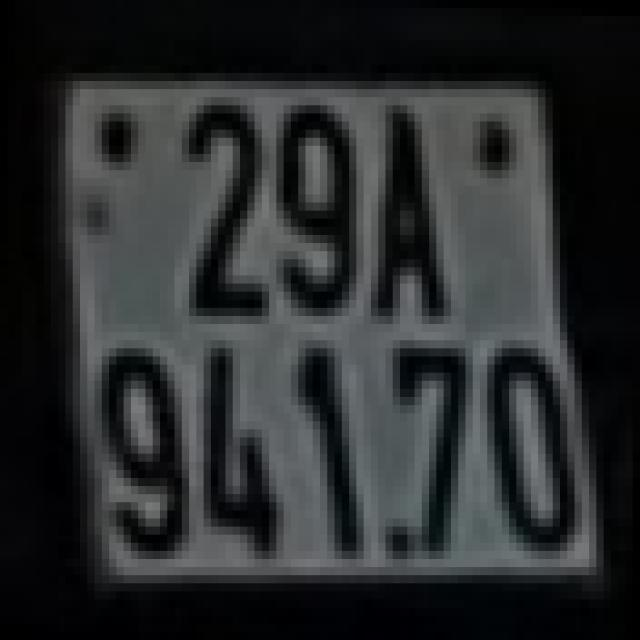0: (487, 340, 575, 551)
1: (298, 348, 364, 559)
2: (175, 97, 269, 316)
4: (196, 340, 284, 559)
7: (392, 340, 472, 551)
9: (95, 340, 189, 559), (276, 97, 356, 316)
A: (371, 97, 451, 324)
